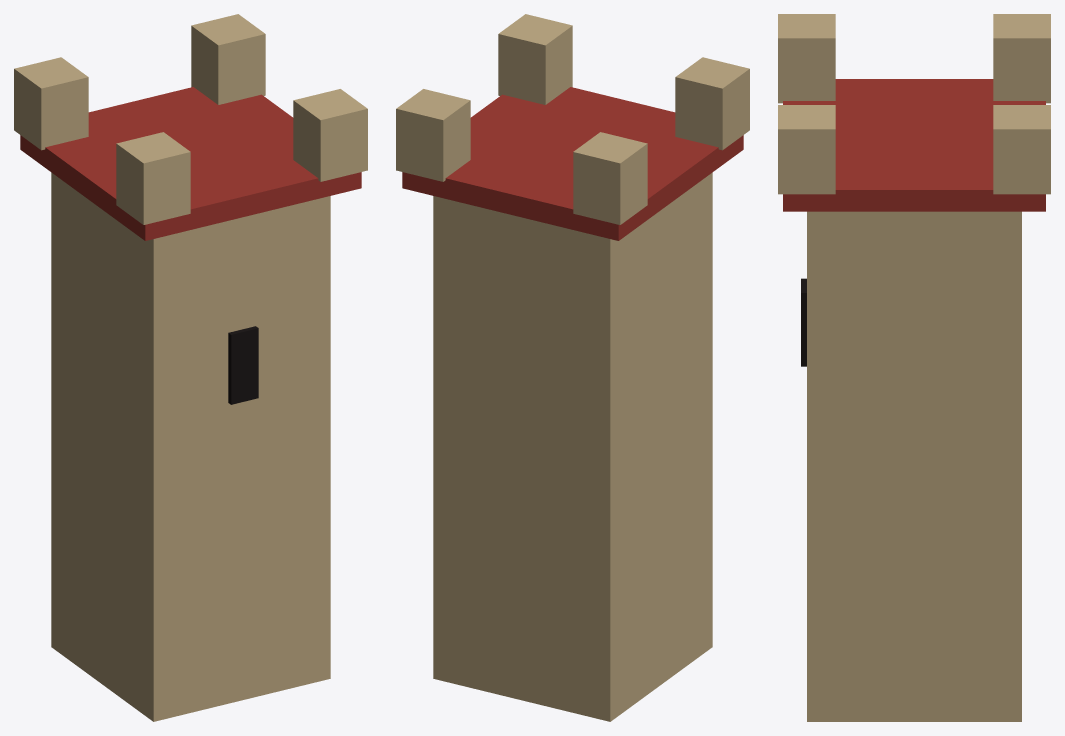
File: minotaur_tower_broken.glb
The picture shows the model from 3 angles, left to right: view 1: azimuth 30°, elevation 25°; view 2: azimuth 150°, elevation 25°; view 3: azimuth 270°, elevation 25°; orthographic projection. The views are drawn at different scales.
Visible parts, largest first — view 1: minotaur_tower_piece1, minotaur_tower_piece3, minotaur_tower_piece9, minotaur_tower_piece5, minotaur_tower_piece4, minotaur_tower_piece2, minotaur_tower_piece8, minotaur_tower_piece0, minotaur_tower_piece6, minotaur_tower_piece7; view 2: minotaur_tower_piece4, minotaur_tower_piece1, minotaur_tower_piece0, minotaur_tower_piece9, minotaur_tower_piece7, minotaur_tower_piece6, minotaur_tower_piece3; view 3: minotaur_tower_piece1, minotaur_tower_piece6, minotaur_tower_piece2, minotaur_tower_piece3, minotaur_tower_piece4, minotaur_tower_piece8, minotaur_tower_piece0, minotaur_tower_piece7, minotaur_tower_piece5.
Part boxes in pixels (box(x1,y1,x2,y2)): minotaur_tower_piece1: box(82, 14, 367, 411); minotaur_tower_piece3: box(88, 322, 330, 707); minotaur_tower_piece9: box(51, 284, 211, 721); minotaur_tower_piece5: box(172, 306, 330, 602); minotaur_tower_piece4: box(14, 57, 182, 335); minotaur_tower_piece2: box(251, 111, 367, 358); minotaur_tower_piece8: box(240, 290, 330, 520); minotaur_tower_piece0: box(51, 471, 76, 664); minotaur_tower_piece6: box(245, 512, 330, 626); minotaur_tower_piece7: box(103, 311, 145, 378); minotaur_tower_piece4: box(440, 132, 687, 410); minotaur_tower_piece1: box(396, 14, 749, 316); minotaur_tower_piece0: box(433, 414, 635, 721); minotaur_tower_piece9: box(569, 342, 712, 703); minotaur_tower_piece7: box(433, 239, 704, 472); minotaur_tower_piece6: box(433, 359, 525, 597); minotaur_tower_piece3: box(647, 313, 712, 547); minotaur_tower_piece1: box(778, 14, 1050, 362); minotaur_tower_piece6: box(807, 361, 1021, 667); minotaur_tower_piece2: box(778, 131, 967, 513); minotaur_tower_piece3: box(807, 647, 953, 721); minotaur_tower_piece4: box(917, 14, 1050, 127); minotaur_tower_piece8: box(801, 289, 880, 555); minotaur_tower_piece0: box(916, 637, 1021, 721); minotaur_tower_piece7: box(968, 269, 1021, 384); minotaur_tower_piece5: box(801, 278, 865, 640).
Bounding box in the file's own units: 1.14 × 2.79 × 1.14.
